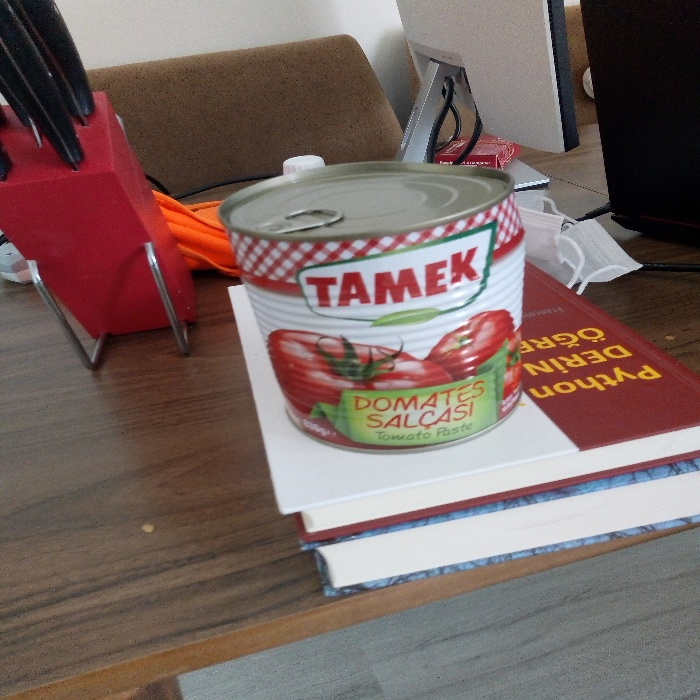salca: (216, 126, 523, 439)
